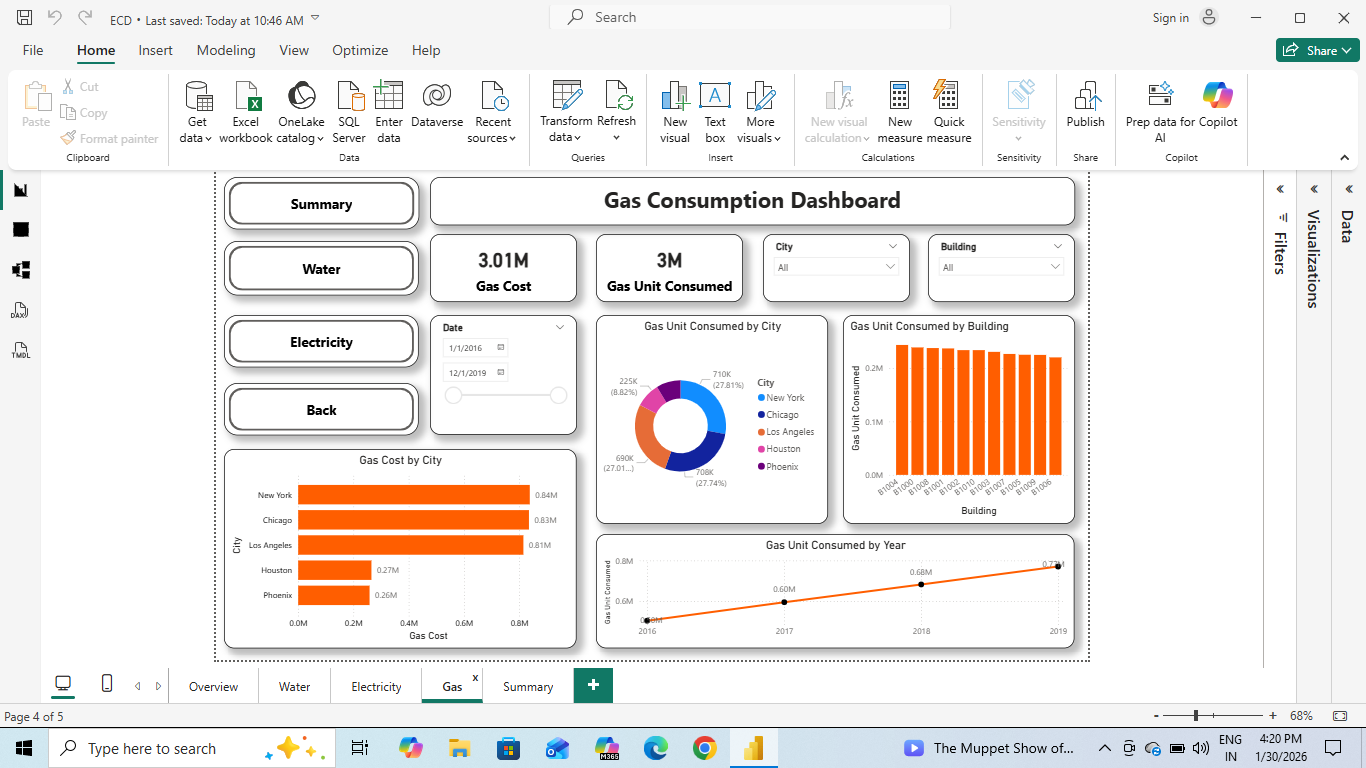

The page's visual inventory and layout, read from the dashboard file:
{"tool":"powerbi","page":{"name":"Gas","canvas":[1280,720],"ordinal":3},"visuals":[{"type":"clusteredBarChart","fields":{"Category":["Building Master.City"],"Y":["Energy Consumptions.Gas Cost"]},"box":[12.4,410.2,517.5,293.2],"z":0},{"type":"card","fields":{"Values":["Energy Consumptions.Gas Cost"]},"box":[313.8,93.6,216.1,100.5],"z":1000},{"type":"card","fields":{"Values":["Energy Consumptions.Gas Unit Consumed"]},"box":[558.8,93.6,216.1,100.5],"z":2000},{"type":"donutChart","fields":{"Category":["Building Master.City"],"Y":["Energy Consumptions.Gas Unit Consumed"]},"box":[558.8,213.3,341.3,306.9],"z":3000},{"type":"slicer","fields":{"Values":["Building Master.City"]},"box":[803.8,93.6,216.1,100.5],"z":4000},{"type":"slicer","fields":{"Values":["Building Master.Building"]},"box":[1046,93.6,216.1,100.5],"z":5000},{"type":"slicer","fields":{"Values":["Energy Consumptions.Date"]},"box":[313.8,213.3,216.1,176.2],"z":6000},{"type":"lineChart","fields":{"Category":["Energy Consumptions.Date.Variation.Date Hierarchy.Year"],"Y":["Energy Consumptions.Gas Unit Consumed"]},"box":[559,535.4,703,167.6],"z":7000},{"type":"actionButton","title":"Water","box":[12.4,104.6,286.3,79.8],"z":8000},{"type":"actionButton","title":"Water","box":[12.4,213.3,286.3,77.1],"z":9000},{"type":"textbox","box":[314.2,10.5,947.8,70.7],"z":10000},{"type":"actionButton","title":"Water","box":[12.4,312.4,286.3,77.1],"z":11000},{"type":"columnChart","fields":{"Category":["Building Master.Building"],"Y":["Energy Consumptions.Gas Unit Consumed"]},"box":[920.8,213.3,341.3,306.9],"z":12000},{"type":"actionButton","title":"Water","box":[11.8,10.5,286.7,77.2],"z":13000}]}

Visuals, with their boxes on the page's 1280x720 design canvas (x1, y1, x2, y2). These are canvas units, not pixel positions in the 1366x768 screenshot, which may show the page scaled, cropped or inside an application window:
clusteredBarChart - Building Master.City x Energy Consumptions.Gas Cost: 12:410:530:703
card - Energy Consumptions.Gas Cost: 314:94:530:194
card - Energy Consumptions.Gas Unit Consumed: 559:94:775:194
donutChart - Building Master.City x Energy Consumptions.Gas Unit Consumed: 559:213:900:520
slicer - Building Master.City: 804:94:1020:194
slicer - Building Master.Building: 1046:94:1262:194
slicer - Energy Consumptions.Date: 314:213:530:390
lineChart - Energy Consumptions.Date.Variation.Date Hierarchy.Year x Energy Consumptions.Gas Unit Consumed: 559:535:1262:703
"Water" actionButton: 12:105:299:184
"Water" actionButton: 12:213:299:290
textbox: 314:10:1262:81
"Water" actionButton: 12:312:299:390
columnChart - Building Master.Building x Energy Consumptions.Gas Unit Consumed: 921:213:1262:520
"Water" actionButton: 12:10:298:88
